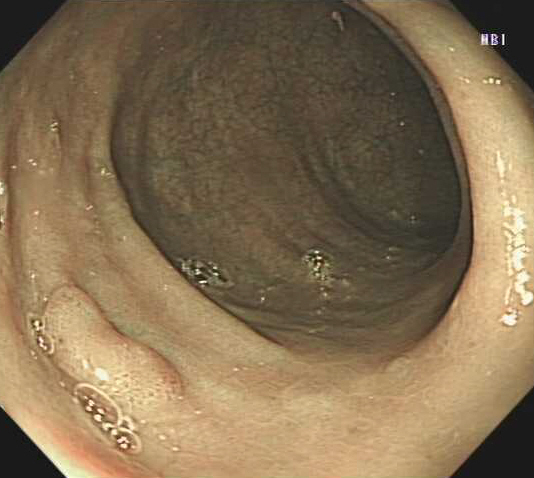adenoma: (37, 283, 187, 417)
